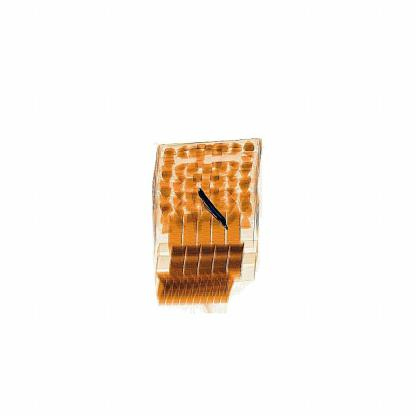knife: (200, 186, 233, 234)
